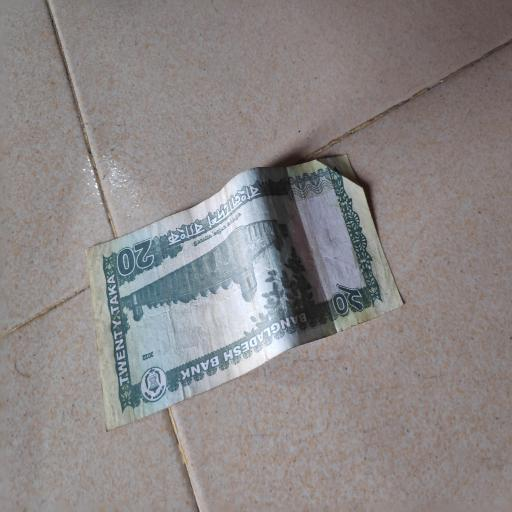20taka: (90, 151, 403, 431)
